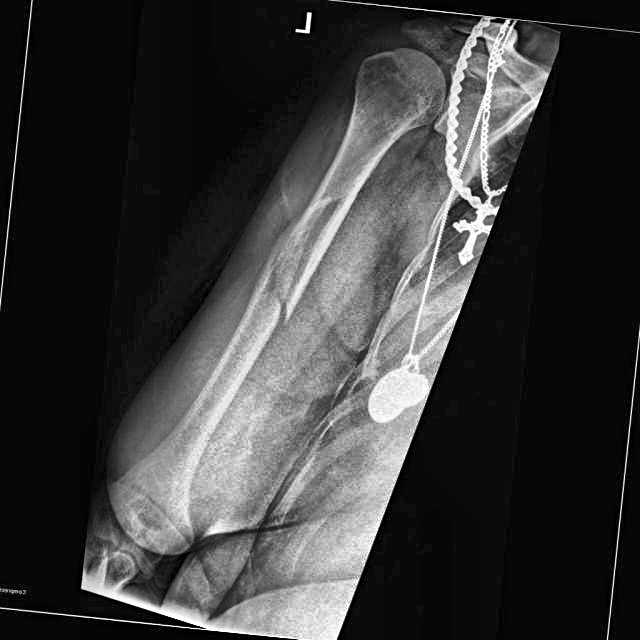Spiral: (243, 210, 316, 340)
